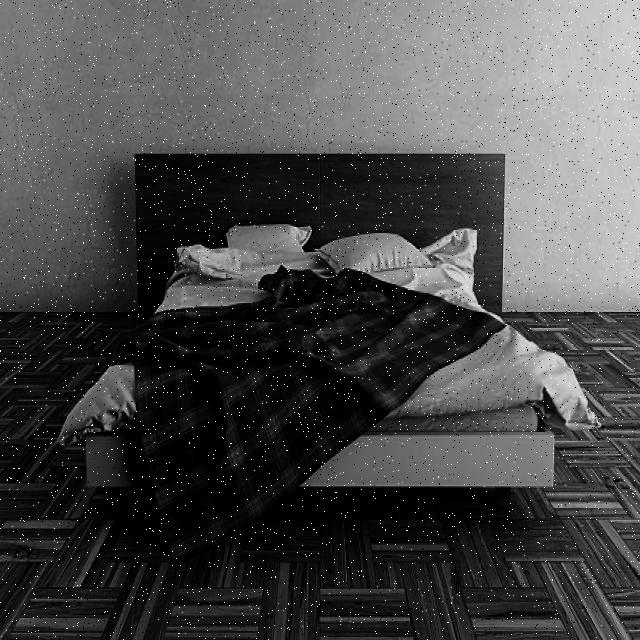bed: (52, 218, 605, 498)
